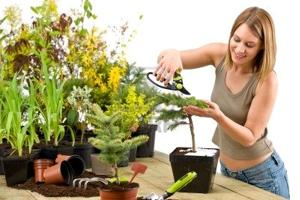person: (151, 4, 293, 200)
